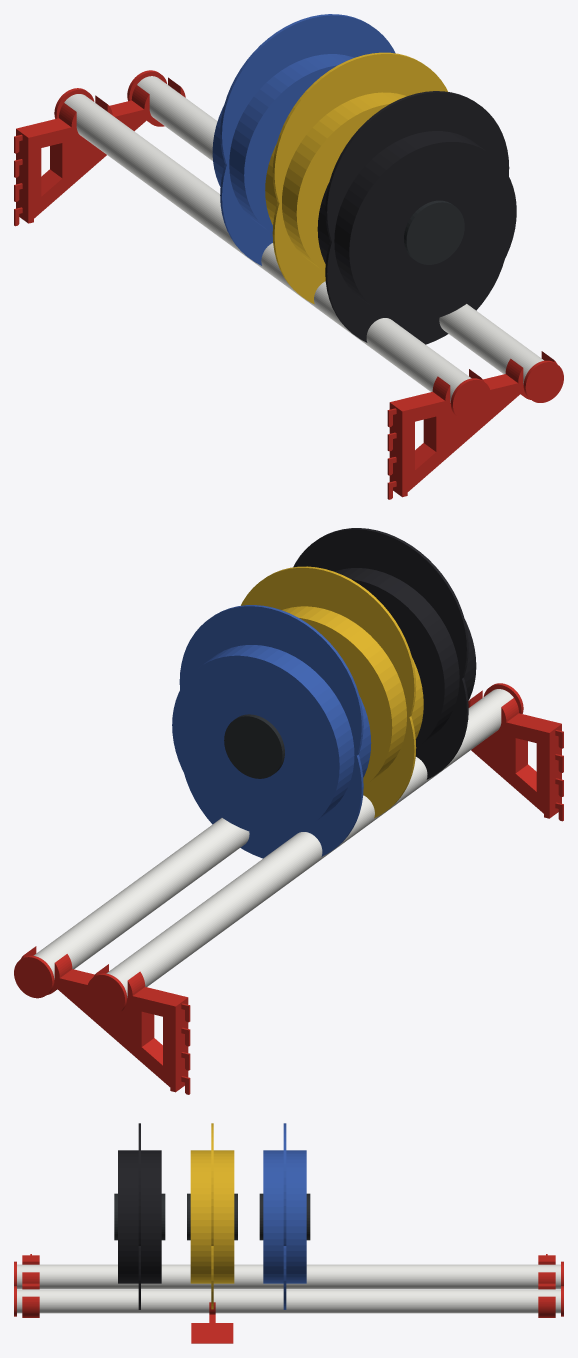
File: spool-shelf.glb
The picture shows the model from 3 angles, top to bottom: view 1: azimuth 30°, elevation 25°; view 2: azimuth 150°, elevation 25°; view 3: azimuth 270°, elevation 25°; orthographic projection. The views are drawn at different scales.
Parts seen in each view (by area): view 1: part_08, part_10, part_12, part_02, part_00, part_01, part_05, part_09, part_03, part_06; view 2: part_12, part_10, part_08, part_02, part_05, part_01, part_00, part_13, part_07, part_04; view 3: part_05, part_02, part_10, part_12, part_08, part_14, part_00, part_01, part_13, part_09, part_11.
Part boxes in pixels (bbox=[...]): part_08: bbox=[317, 91, 516, 344]; part_10: bbox=[265, 52, 447, 304]; part_12: bbox=[212, 14, 395, 265]; part_02: bbox=[64, 94, 471, 402]; part_00: bbox=[387, 351, 556, 499]; part_01: bbox=[14, 77, 185, 226]; part_05: bbox=[137, 76, 543, 384]; part_09: bbox=[404, 200, 464, 264]; part_03: bbox=[450, 378, 490, 420]; part_06: bbox=[523, 360, 563, 402]; part_12: bbox=[172, 605, 371, 858]; part_10: bbox=[241, 566, 423, 818]; part_08: bbox=[293, 528, 476, 779]; part_02: bbox=[106, 689, 513, 997]; part_05: bbox=[33, 818, 249, 979]; part_01: bbox=[20, 946, 190, 1094]; part_00: bbox=[468, 690, 563, 821]; part_13: bbox=[224, 714, 284, 778]; part_07: bbox=[14, 955, 54, 998]; part_04: bbox=[87, 973, 127, 1015]; part_05: bbox=[17, 1289, 560, 1313]; part_02: bbox=[17, 1264, 560, 1288]; part_10: bbox=[190, 1123, 234, 1309]; part_12: bbox=[263, 1123, 306, 1309]; part_08: bbox=[118, 1123, 161, 1309]; part_14: bbox=[191, 1302, 233, 1343]; part_00: bbox=[22, 1254, 39, 1317]; part_01: bbox=[538, 1254, 555, 1317]; part_13: bbox=[259, 1193, 310, 1240]; part_09: bbox=[114, 1193, 165, 1240]; part_11: bbox=[187, 1193, 237, 1240].
Bounding box in the file's own units: 218 × 337 × 758.
